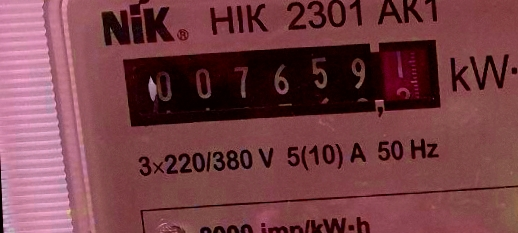0: (191, 64, 215, 102), (152, 66, 174, 106)
1: (390, 45, 407, 82)
5: (308, 54, 330, 91)
6: (269, 60, 292, 97)
7: (229, 62, 251, 101)
9: (346, 54, 369, 92)
screen: (113, 33, 450, 135)
